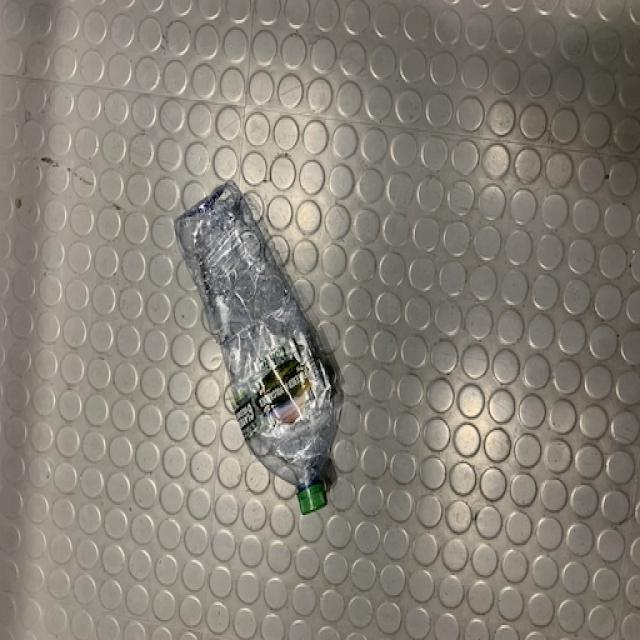plastic_bottle: (175, 182, 337, 516)
